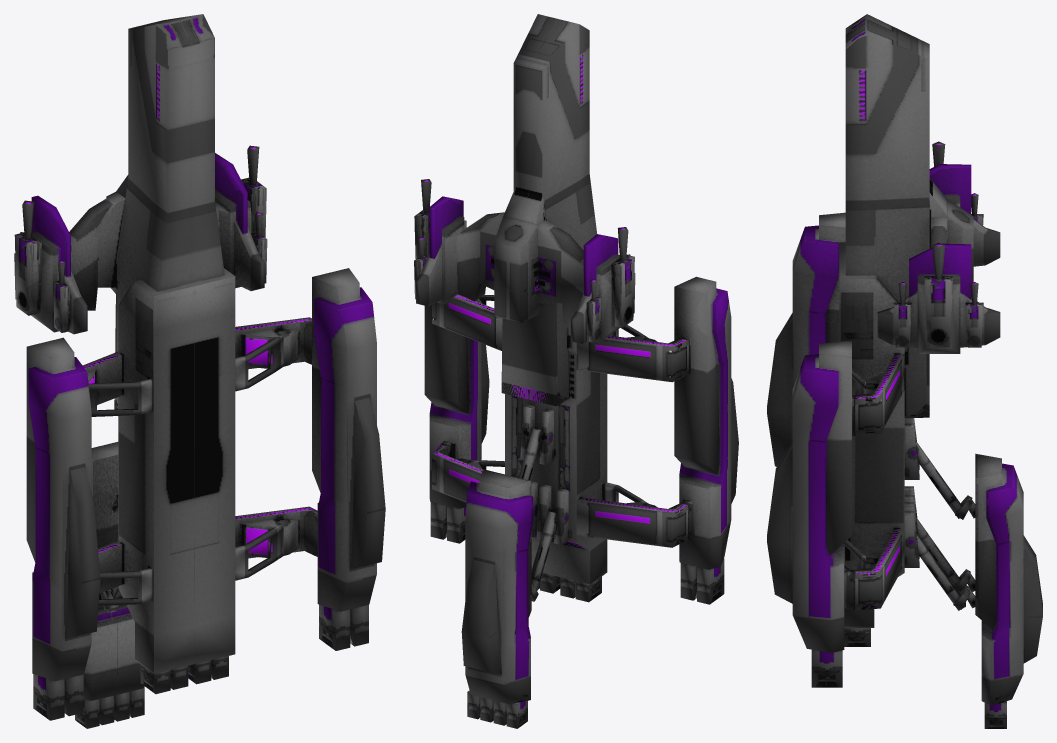
The model's file is purple_spaceship_02.fbx.
The picture shows the model from 3 angles, left to right: view 1: azimuth 30°, elevation 25°; view 2: azimuth 150°, elevation 25°; view 3: azimuth 270°, elevation 25°; orthographic projection. The views are drawn at different scales.
Parts seen in each view (by area): view 1: PFlagShipMod; view 2: PFlagShipMod; view 3: PFlagShipMod.
Boxes of the visible parts, x1,y1,x2,y2 form: PFlagShipMod: (14, 14, 385, 728); PFlagShipMod: (414, 14, 738, 728); PFlagShipMod: (767, 14, 1042, 728).
Bounding box in the file's own units: 1968 × 1532 × 4235.
